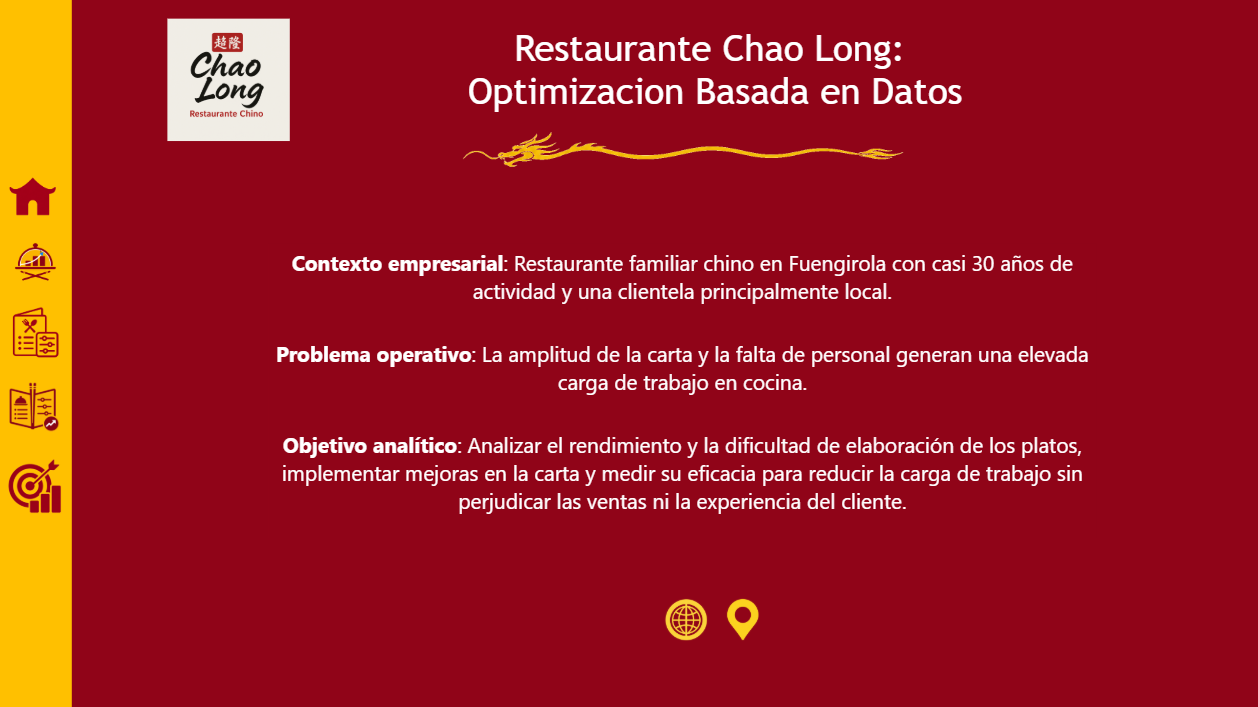

This screenshot's page, from the dashboard's own definition file:
{"tool":"powerbi","page":{"name":"Home","canvas":[1280,720],"ordinal":0},"visuals":[{"type":"textbox","box":[318.3,22.2,818,100.6],"z":0},{"type":"shape","box":[0,0,74.3,718.6],"z":1000},{"type":"image","box":[459.9,122.9,470.5,58.5],"z":2000},{"type":"textbox","box":[273.8,248.1,841.4,299.6],"z":3000},{"type":"image","box":[166.2,10.5,134.6,141.6],"z":4000},{"type":"image","box":[0,228.8,73.8,75],"z":5000},{"type":"image","box":[4.6,377.4,62.5,72.5],"z":6000},{"type":"image","box":[3.3,452.5,65,82.5],"z":7000},{"type":"image","box":[5,170,58.8,58.8],"z":8000},{"type":"image","box":[0,303.6,73.8,71.2],"z":10000},{"type":"image","box":[670.6,600.4,57.3,60.9],"z":11000},{"type":"image","box":[727.9,600.4,57.3,59.7],"z":12000}]}

Visuals, with their boxes in screenshot pixels (x1, y1, x2, y2), scaled from the page's 1280x720 canvas onto the 1258x707 screenshot:
textbox: {"left": 313, "top": 22, "right": 1117, "bottom": 121}
shape: {"left": 0, "top": 0, "right": 73, "bottom": 706}
image: {"left": 452, "top": 121, "right": 914, "bottom": 178}
textbox: {"left": 269, "top": 244, "right": 1096, "bottom": 538}
image: {"left": 163, "top": 10, "right": 296, "bottom": 149}
image: {"left": 0, "top": 225, "right": 73, "bottom": 298}
image: {"left": 5, "top": 371, "right": 66, "bottom": 442}
image: {"left": 3, "top": 444, "right": 67, "bottom": 525}
image: {"left": 5, "top": 167, "right": 63, "bottom": 225}
image: {"left": 0, "top": 298, "right": 73, "bottom": 368}
image: {"left": 659, "top": 590, "right": 715, "bottom": 649}
image: {"left": 715, "top": 590, "right": 772, "bottom": 648}
